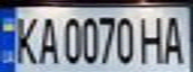0: (115, 12, 139, 65), (78, 12, 100, 65), (60, 12, 81, 65)
7: (97, 12, 118, 65)
A: (157, 11, 190, 65), (33, 11, 60, 65)
H: (136, 11, 169, 65)
K: (6, 11, 42, 65)
